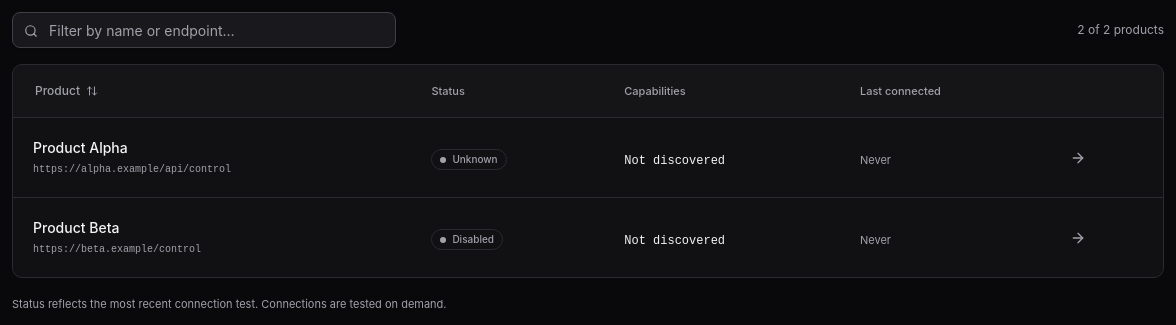
Test: product management UI › filters the real TanStack table and leaves disabled status explicit
Expected: the text "Disabled" is shown, x1=431 y1=229 x2=503 y2=250
In the field named "Filter products": (204, 30) x1=12 y1=12 x2=396 y2=48, type "beta.example"
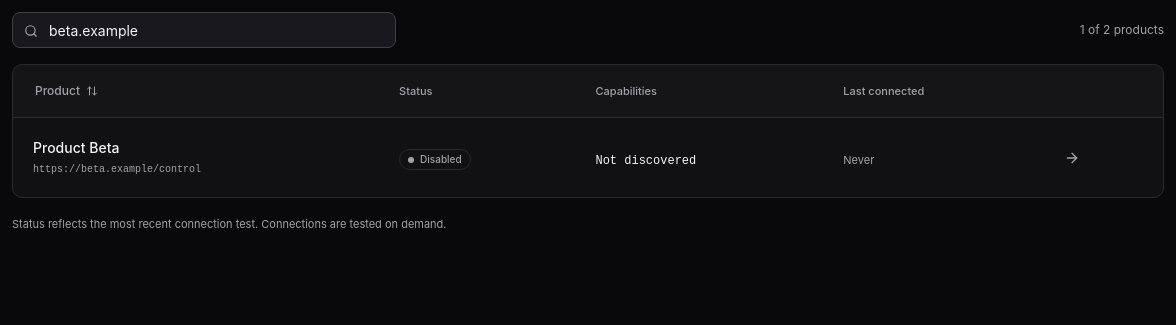
Expected: the link "Product Alpha" is gone
Expected: the text "Product Beta" is shown, x1=33 y1=139 x2=120 y2=156
Expected: the text "1 of 2 products" is shown, x1=1080 y1=22 x2=1164 y2=38
